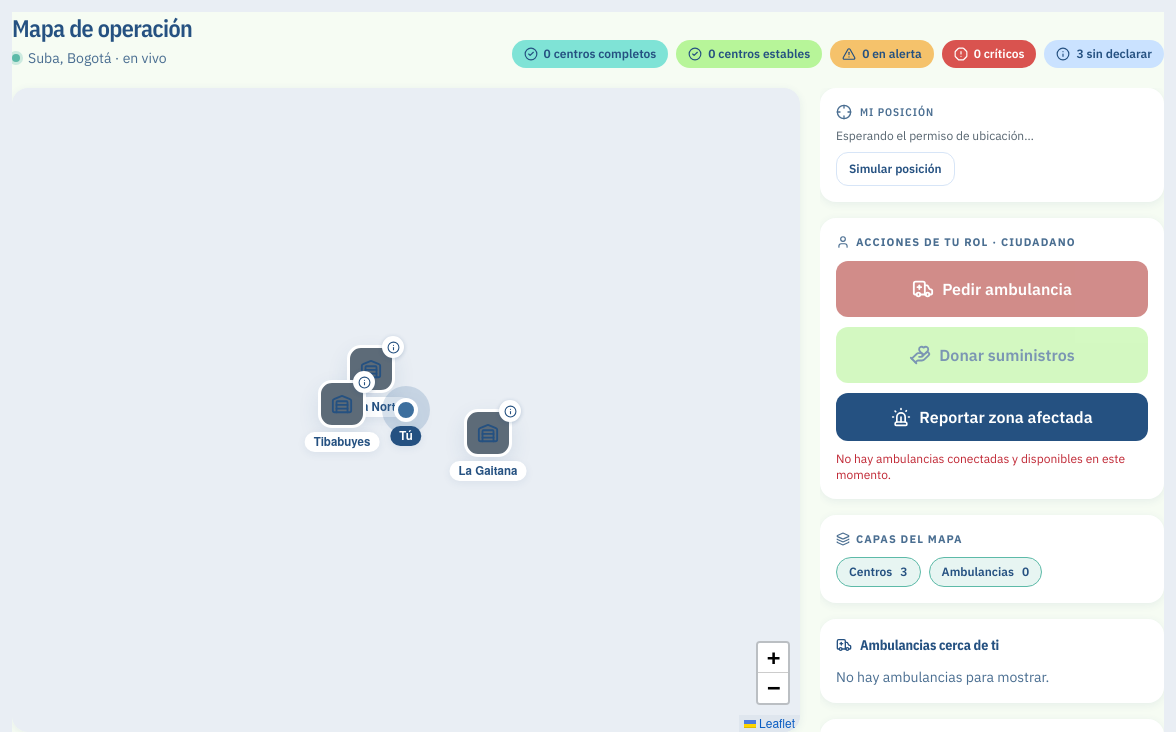
Test: CitizenMapPage against /api/v1/mapa › paints the backend centers and no zone polygons
The width and height of the screenshot is (1176, 732).
Expected: the button "Donar suministros" is disabled, [836, 326, 1148, 382]
Expected: the list item "3 sin declarar" is shown, [1044, 40, 1164, 68]
Click the button with class "nv-marker". click: (371, 369)
box: [347, 345, 395, 393]
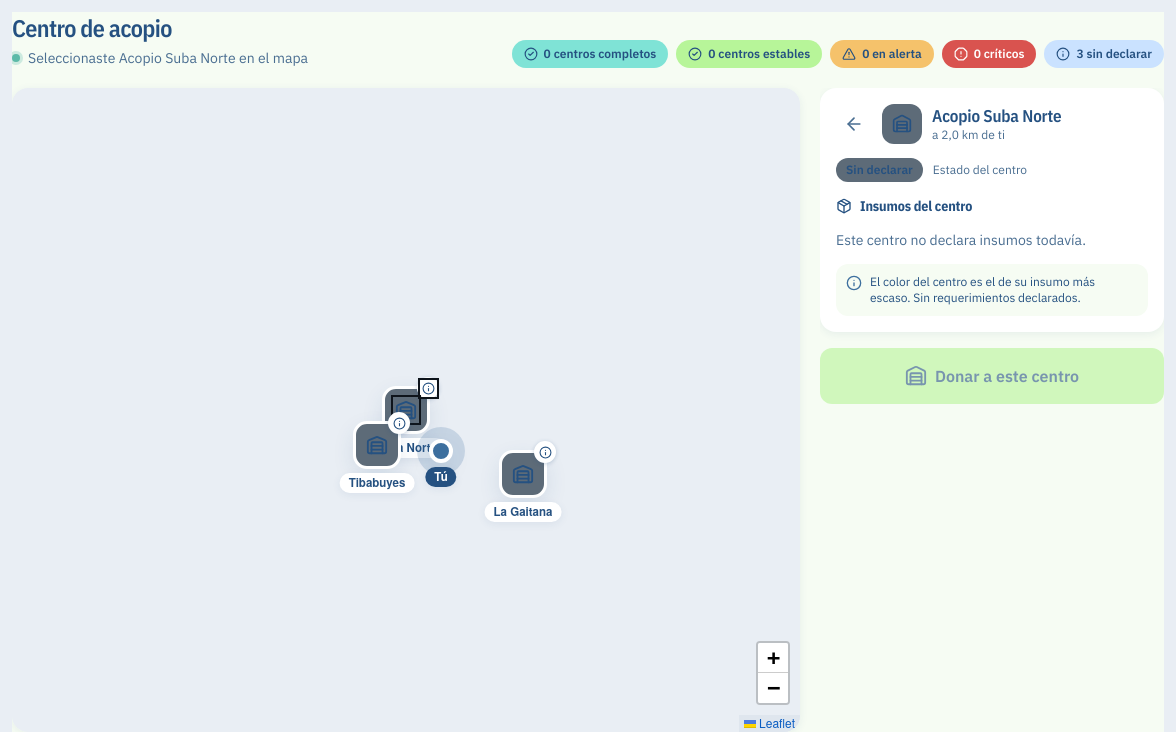
Expected: the heading "Centro de acopio" is shown, [12, 12, 172, 44]
